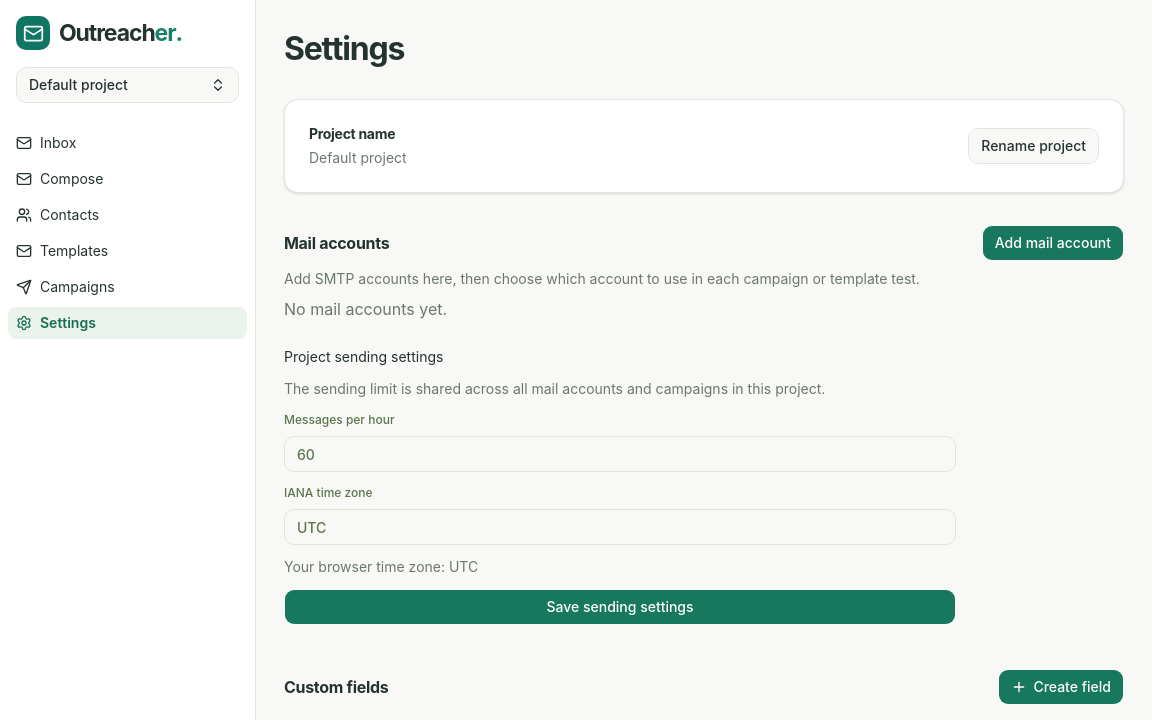
Project navigation › opens Settings on deep links and preserves the section when switching projects
Check: the heading "Settings" is shown, box [284,28,404,70]
Check: the heading "Custom fields" is shown, box [284,675,388,699]
What coordinates should you click on to do the following:
click the button with aria-label "Switch project: Default project"
I would click on:
 (128, 84)
Its box is [16,66,239,102].
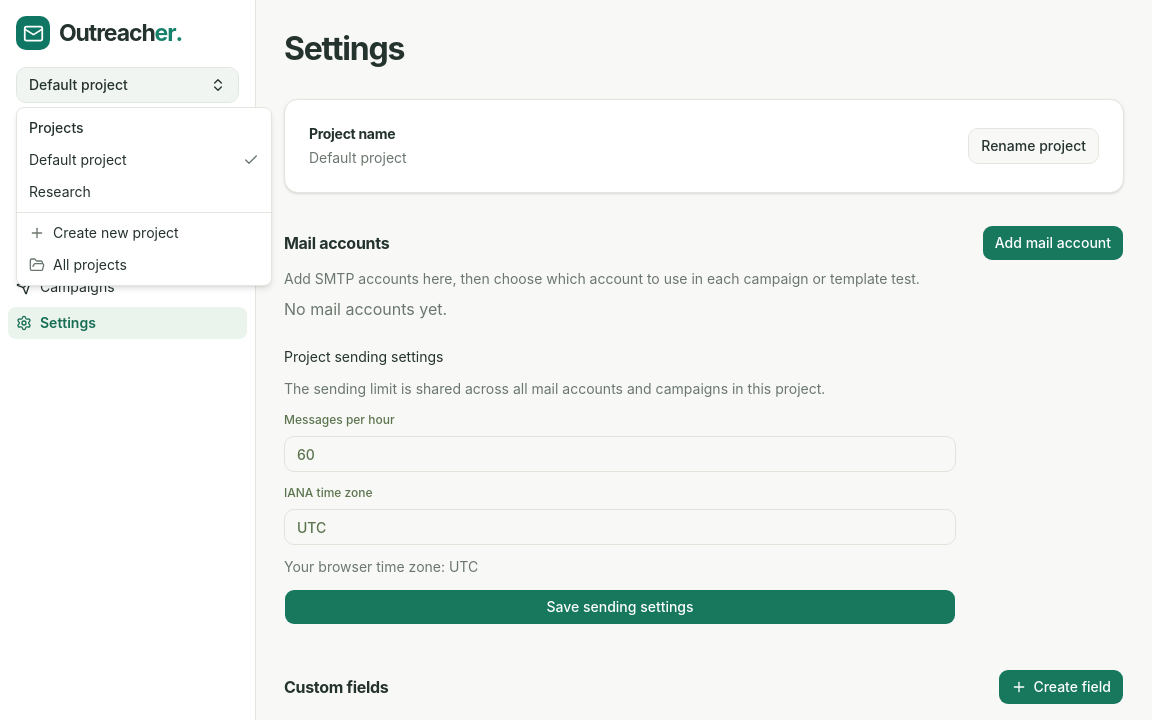
What coordinates should you click on to do the following:
click the menu item "Research"
I would click on:
 (60, 192)
Its box is [29,183,91,200].
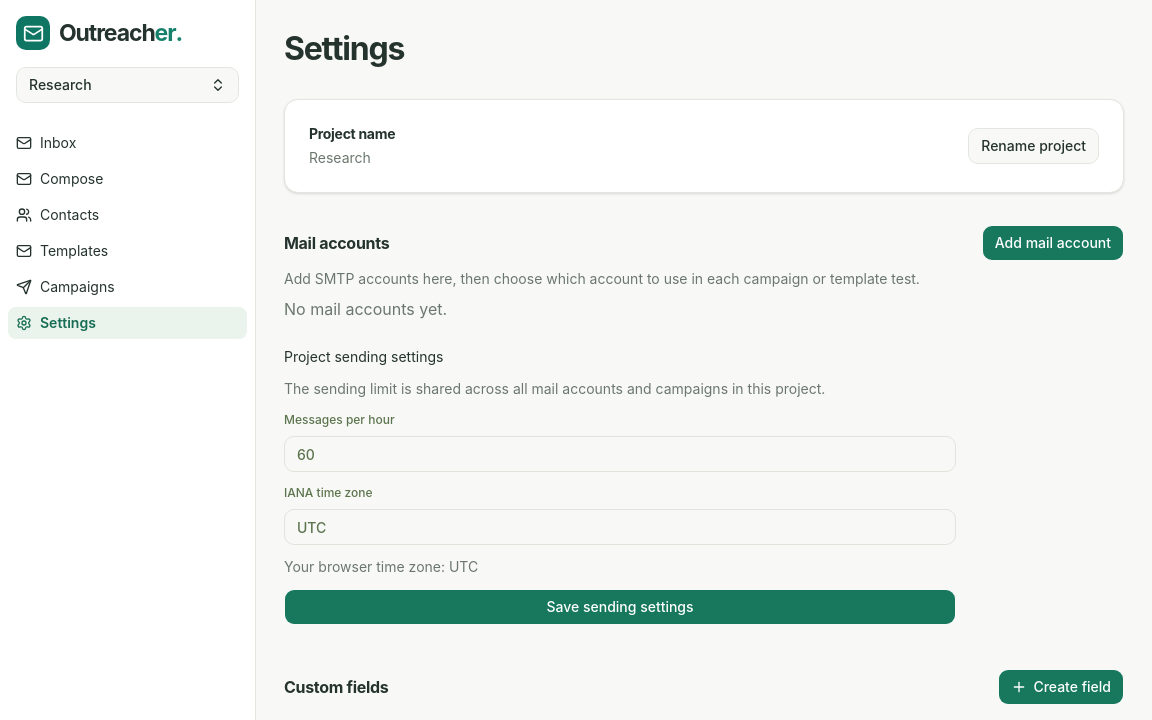
Check: the heading "Custom fields" is shown, box [284,675,388,699]
Check: the button with aria-label "Switch project: Research" is shown, box [16,66,239,102]
What coordinates should you click on to do the following:
click the link with aria-label "Outreacher home"
I would click on:
 (99, 33)
Its box is [16,16,182,50].
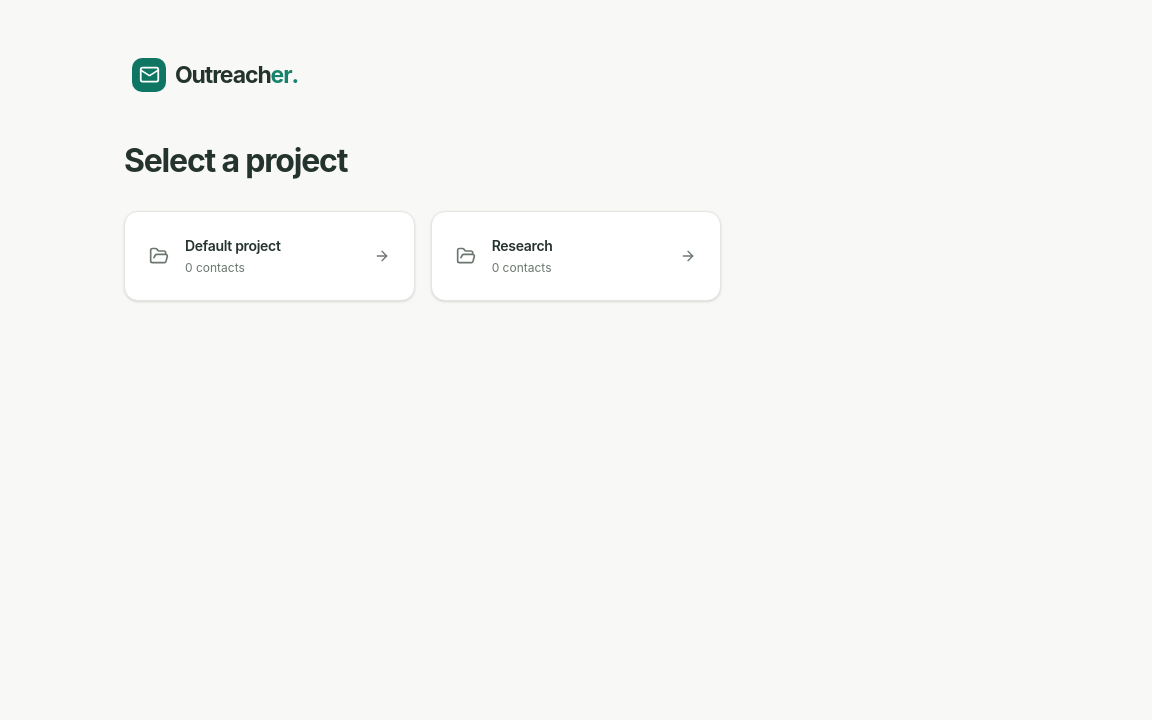
Check: the heading "Select a project" is shown, box [124,140,347,182]
